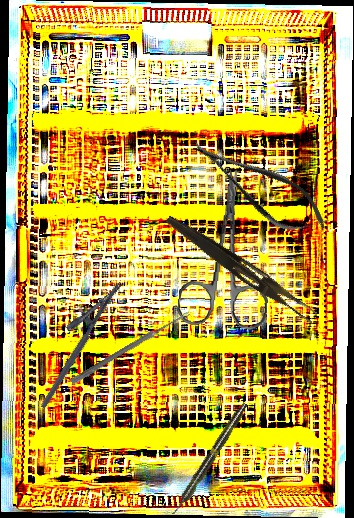Dressing Forceps: (160, 213, 322, 324)
Handpiece: (168, 400, 251, 518)
Iris Scissors: (175, 164, 282, 333)
Micro Scissor: (182, 124, 337, 249)
Needle Holder: (23, 270, 124, 410)
Surgical Spoon: (69, 309, 192, 386)
